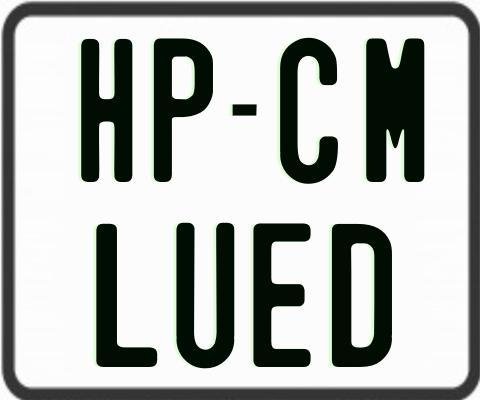C: (277, 35, 336, 183)
D: (330, 223, 393, 370)
E: (253, 222, 317, 372)
H: (81, 37, 137, 181)
L: (93, 223, 158, 367)
M: (363, 38, 423, 187)
P: (152, 37, 214, 186)
U: (175, 221, 233, 369)
